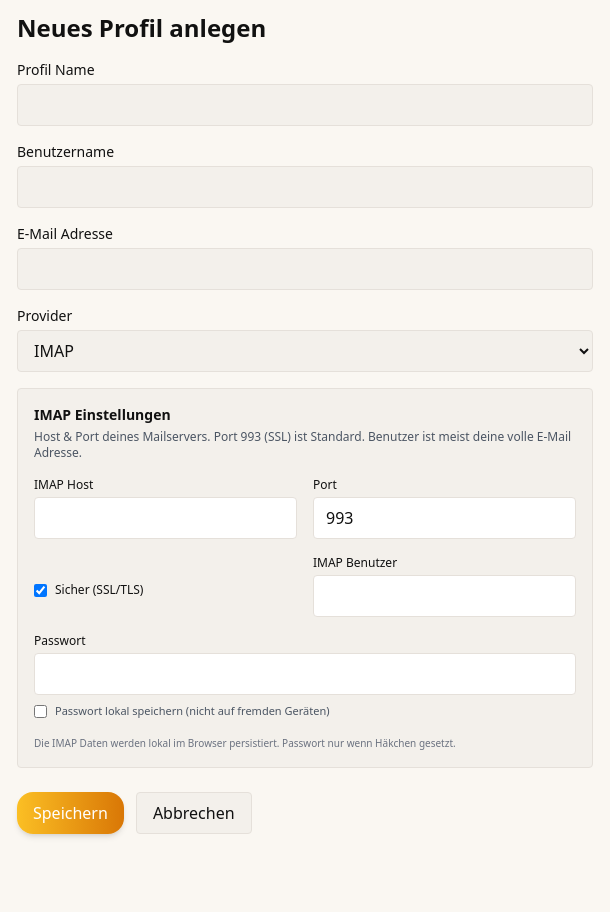
Test: Profile setup flow › validates empty form
The image size is (610, 912).
Click the button "Speichern" at [70, 812], box [17,792,124,834]
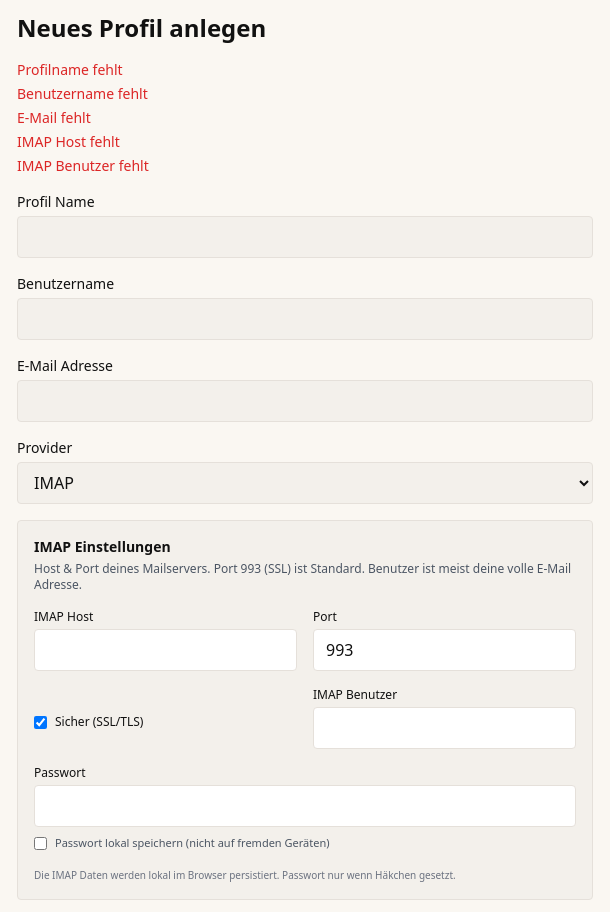
Now the text "Profilname fehlt" is shown, box [17,60,123,79]
